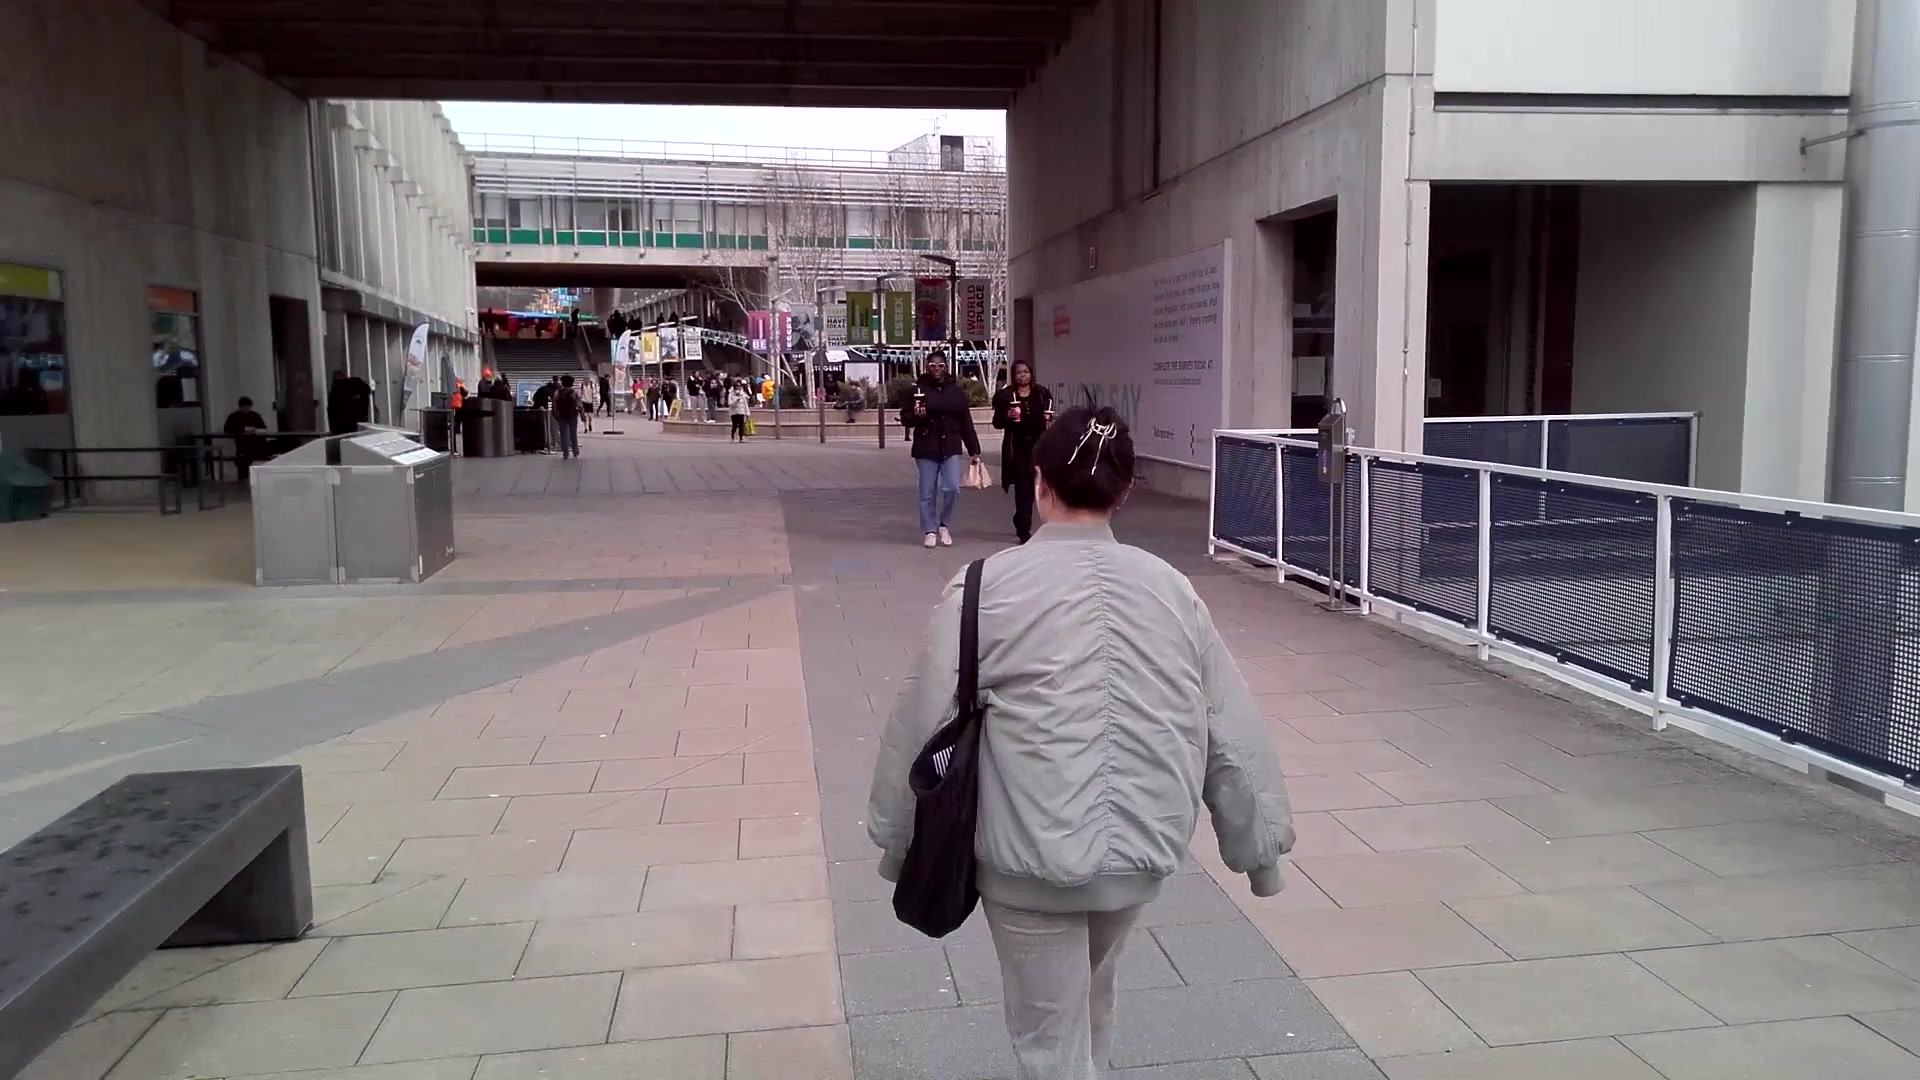Backpack: (916, 725, 981, 934)
Bin: (340, 425, 456, 581), (252, 429, 334, 589)
Person: (926, 402, 1245, 1080), (908, 350, 969, 553), (553, 374, 582, 459), (728, 379, 753, 447)
